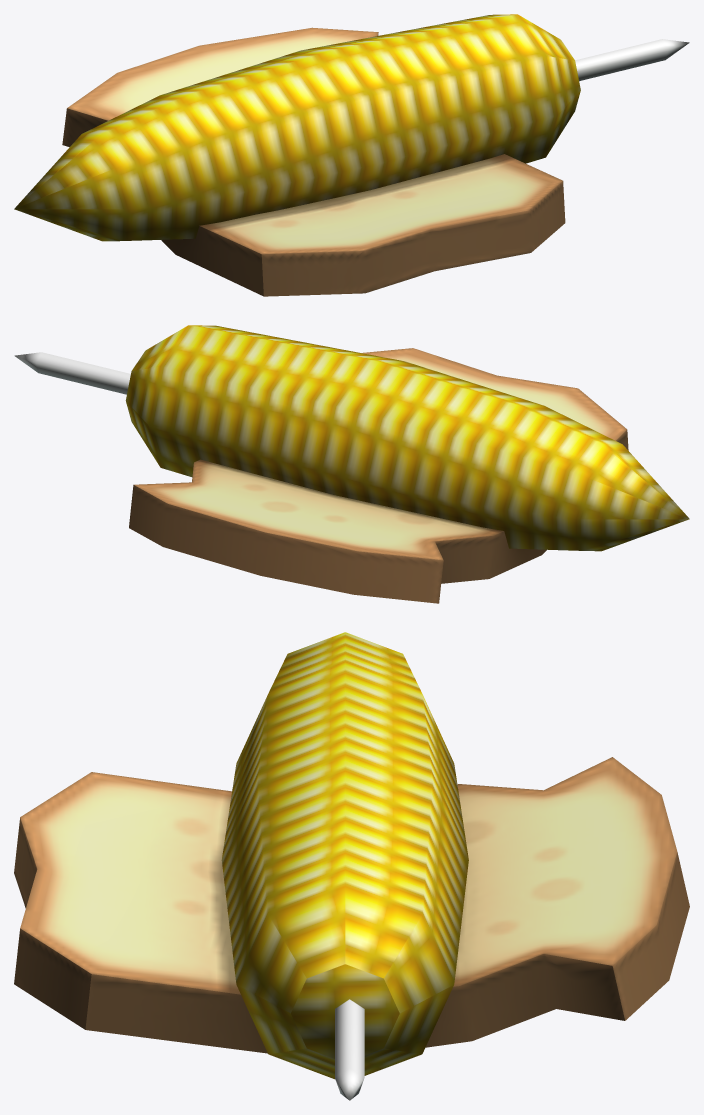
Rendered from cornOnBread.fbx.
The picture shows the model from 3 angles, top to bottom: view 1: azimuth 30°, elevation 25°; view 2: azimuth 150°, elevation 25°; view 3: azimuth 270°, elevation 25°; orthographic projection. The views are drawn at different scales.
Parts seen in each view (by area): view 1: cornOnBread; view 2: cornOnBread; view 3: cornOnBread.
Boxes of the visible parts, <box> form: cornOnBread: <box>14,14,689,296</box>; cornOnBread: <box>14,325,689,603</box>; cornOnBread: <box>14,632,689,1100</box>.
Bounding box in the file's own units: 8.52 × 1.96 × 5.36.
